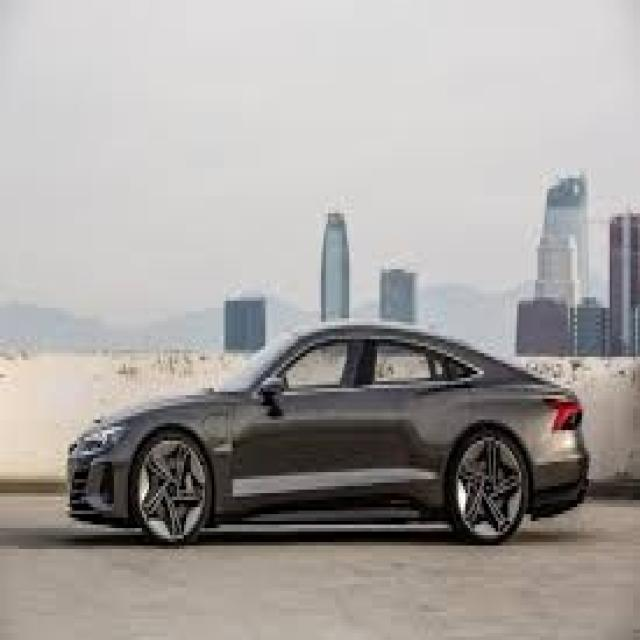black: (52, 287, 623, 541)
